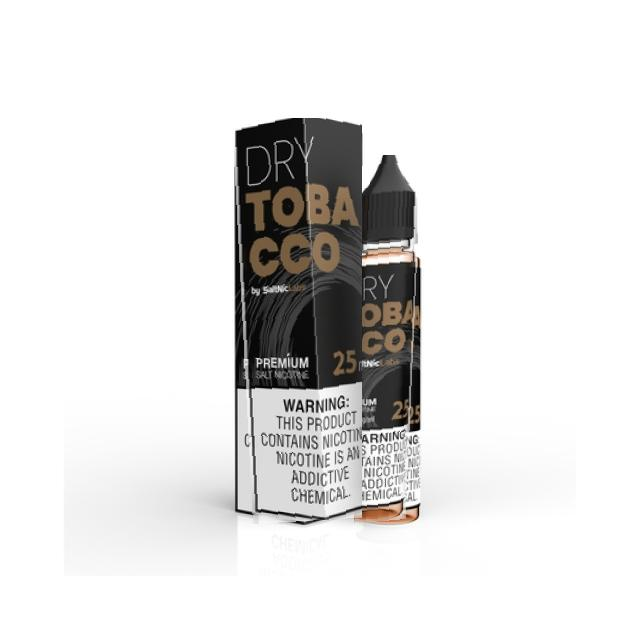Vapes: (232, 118, 362, 524), (354, 155, 422, 525)
